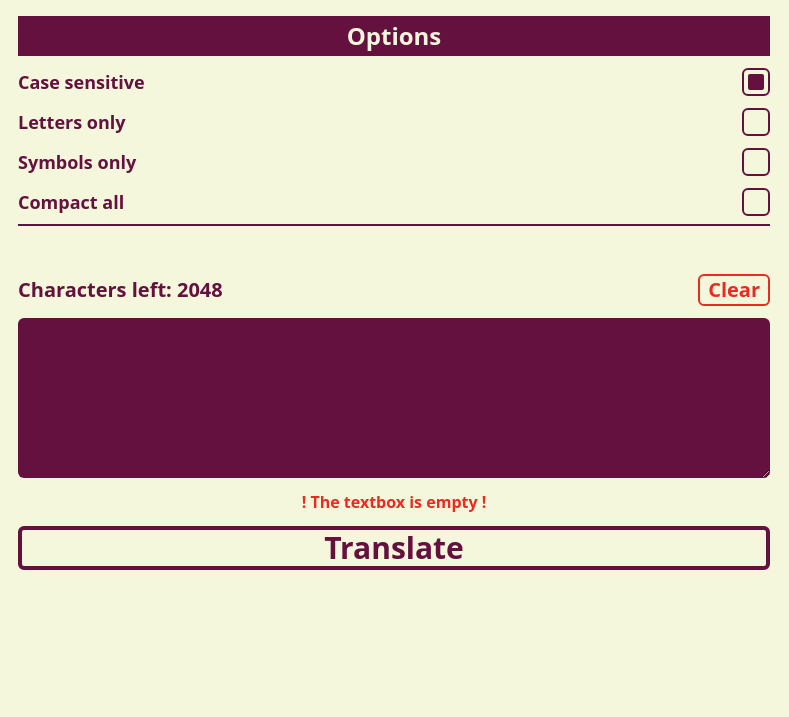
Test: App › should squash all elements with the same repetitions if the compactAll is checked
This screenshot has width=789, height=717.
Click the checkbox named "Compact all" in the row of "Compact all": (756, 202) x1=742 y1=188 x2=770 y2=216
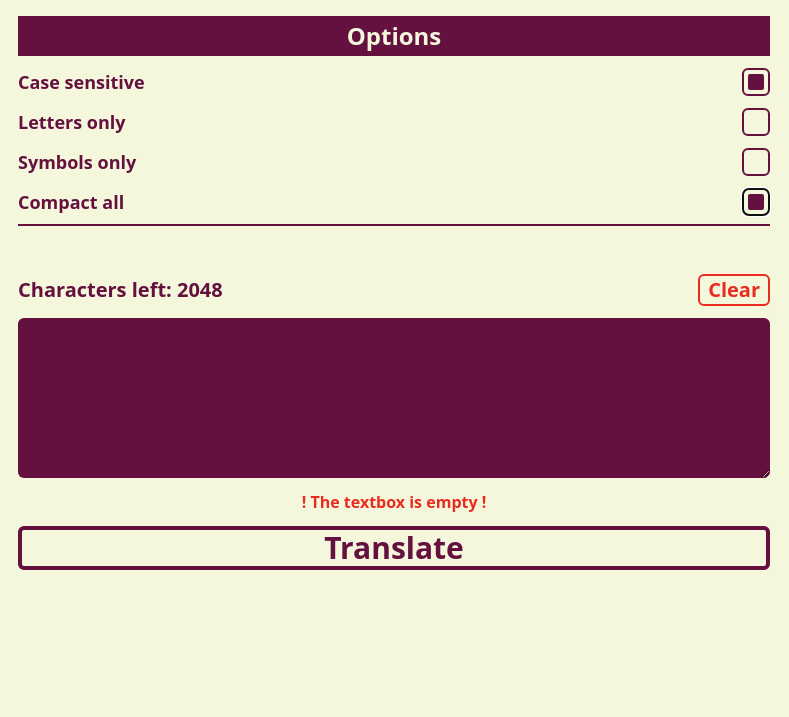
In the text box: (394, 398) x1=18 y1=318 x2=770 y2=478, type "test test adam adam word word word button button button"
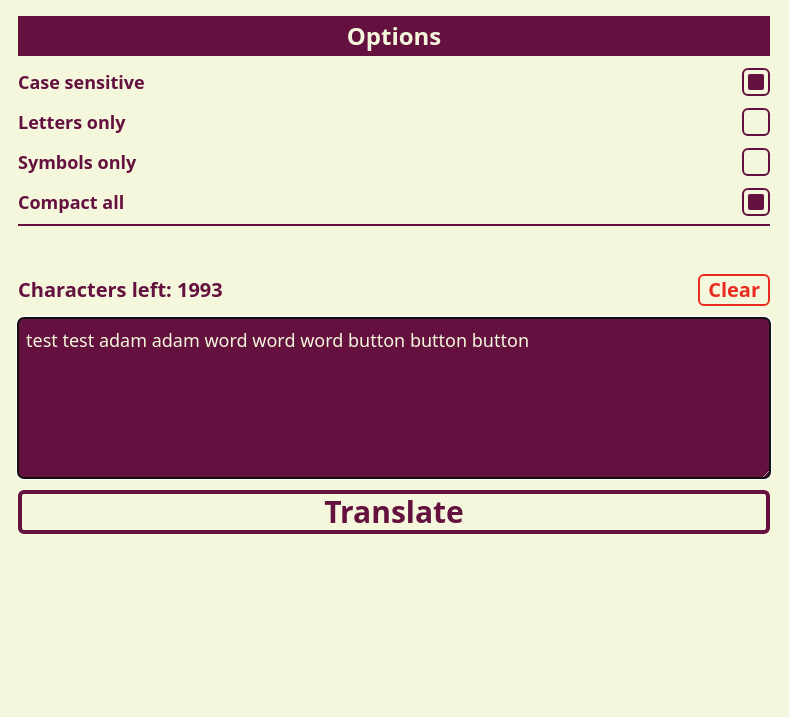
Click the button "Translate": (394, 512) x1=18 y1=490 x2=770 y2=534
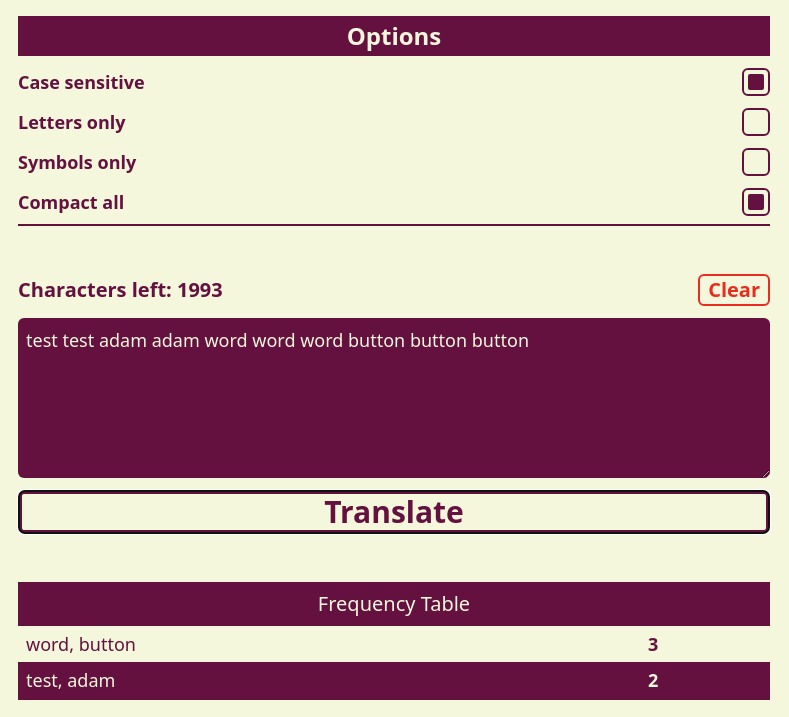
Now the row "test, adam 2" is shown, box x1=18 y1=662 x2=770 y2=699
Now the row "word, button 3" is shown, box x1=18 y1=626 x2=770 y2=662
